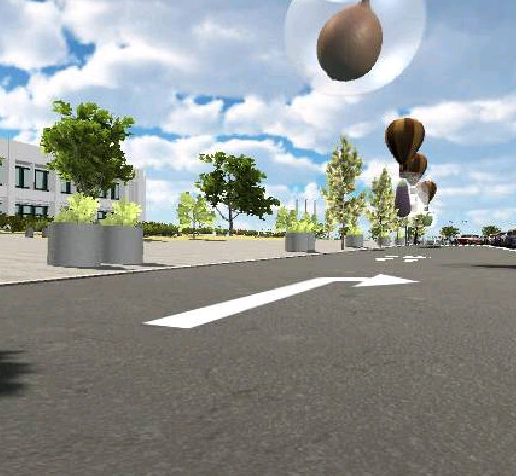ground_right: (292, 270, 427, 289)
